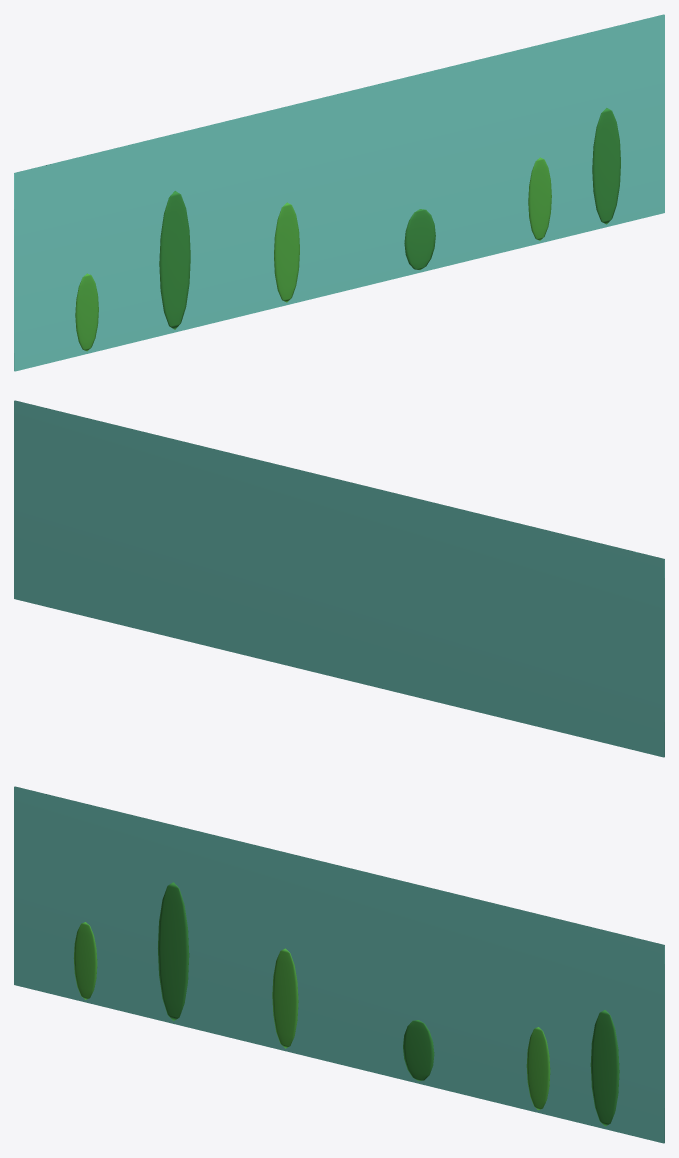
File: TankBackdropLarge.fbx
The picture shows the model from 3 angles, top to bottom: view 1: azimuth 30°, elevation 25°; view 2: azimuth 150°, elevation 25°; view 3: azimuth 330°, elevation 25°; orthographic projection.
Visible parts, largest first — view 1: TankBackdropLarge mesh; view 2: TankBackdropLarge mesh; view 3: TankBackdropLarge mesh.
Part boxes in pixels (x1,y1,x2,y2): TankBackdropLarge mesh: (14,14,664,371); TankBackdropLarge mesh: (14,400,664,757); TankBackdropLarge mesh: (14,786,664,1143).
Size of the model in its own units: 2.44 by 0.71 by 0.012.
